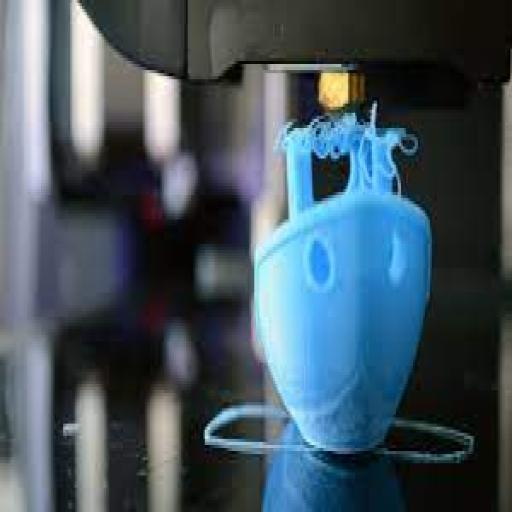spaghetti: (264, 96, 416, 188)
